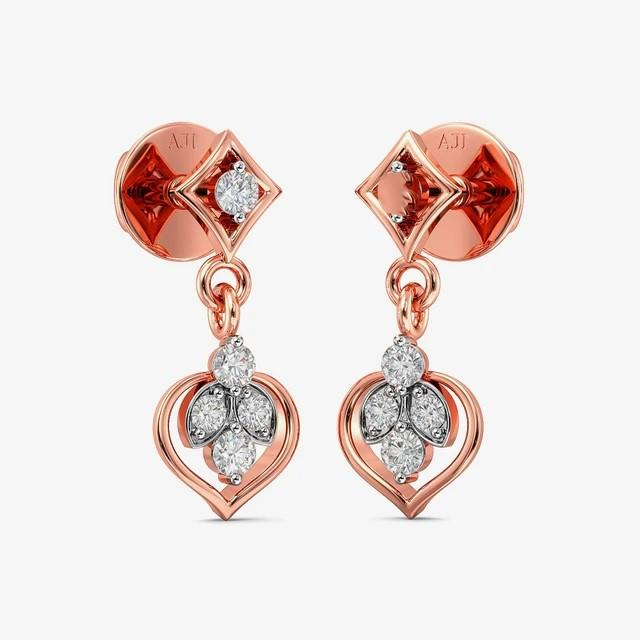missing gem: (378, 170, 421, 216)
